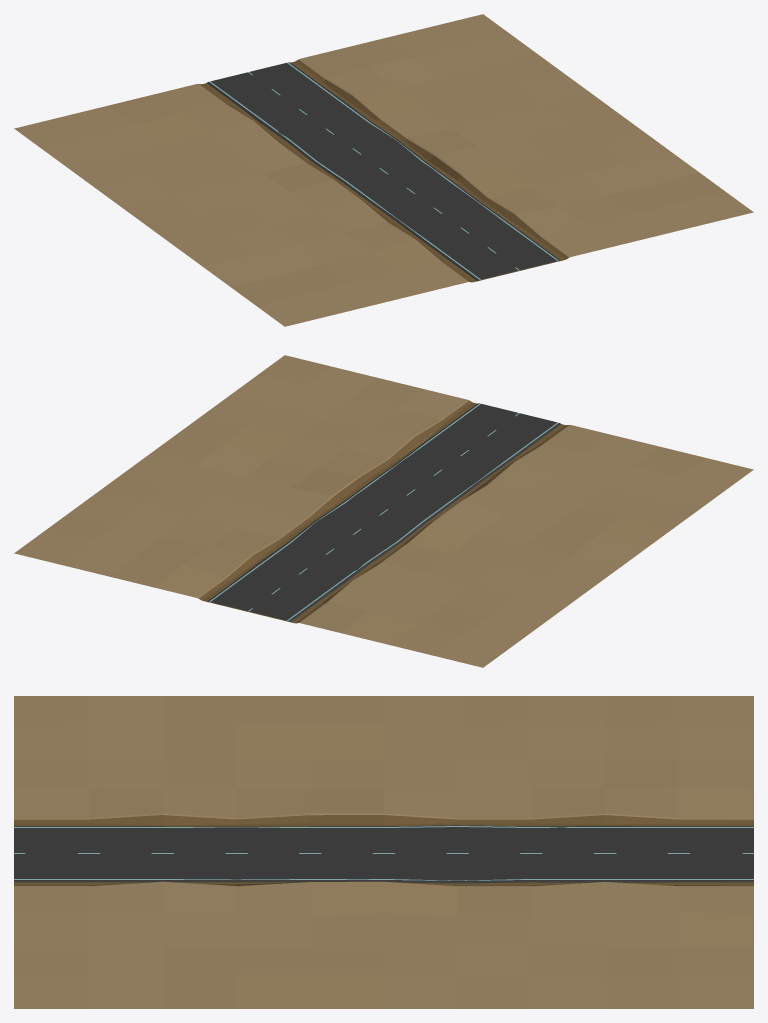
The model's file is model_road_dirt_straight_01.fbx.
3 views of the same model, one above another, from view 1: azimuth 30°, elevation 25°; view 2: azimuth 150°, elevation 25°; view 3: azimuth 270°, elevation 25° (orthographic). The views are drawn at different scales.
Visible parts, largest first — view 1: model_road_dirt_straight_01; view 2: model_road_dirt_straight_01; view 3: model_road_dirt_straight_01.
Part boxes in pixels (x1=…): model_road_dirt_straight_01: x1=14, y1=14, x2=753, y2=326; model_road_dirt_straight_01: x1=14, y1=355, x2=753, y2=667; model_road_dirt_straight_01: x1=14, y1=696, x2=753, y2=1008.
Size of the model in its own units: 6161 by 62.78 by 6161.
1 material, 1 textured.
